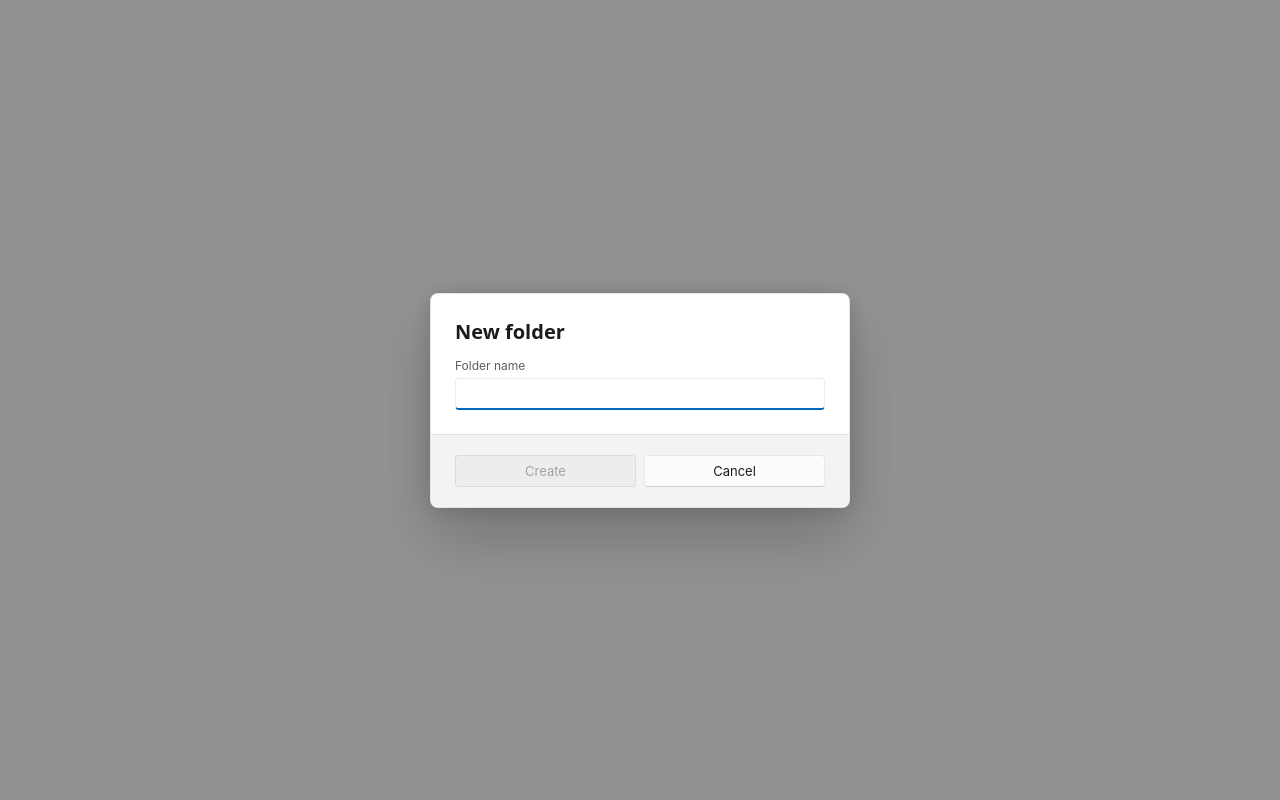
Scenario: ActionDialog › shows the backend error and keeps the dialog open
The width and height of the screenshot is (1280, 800).
Type "Reports" into the field labelled "Folder name" at (640, 394), box [455,378,825,410]
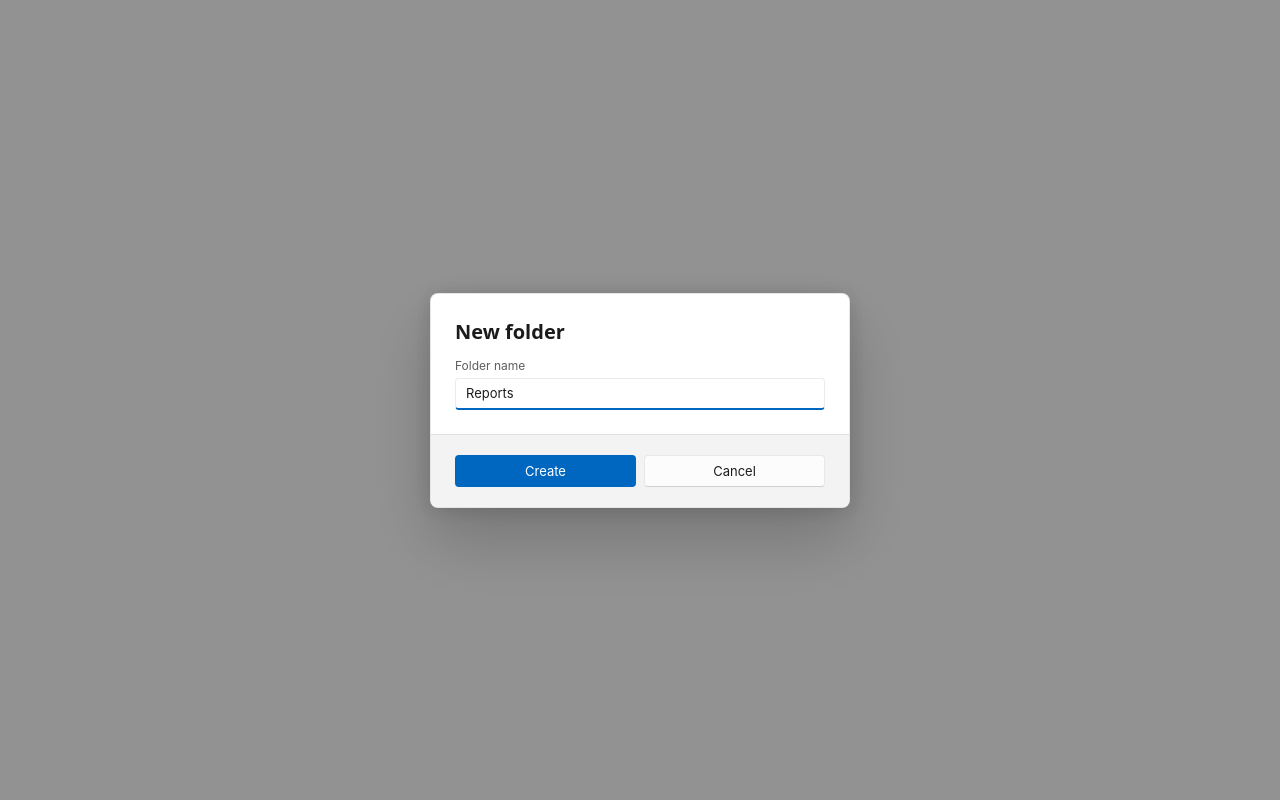
Click the button "Create" at (546, 470), box [455,454,636,486]
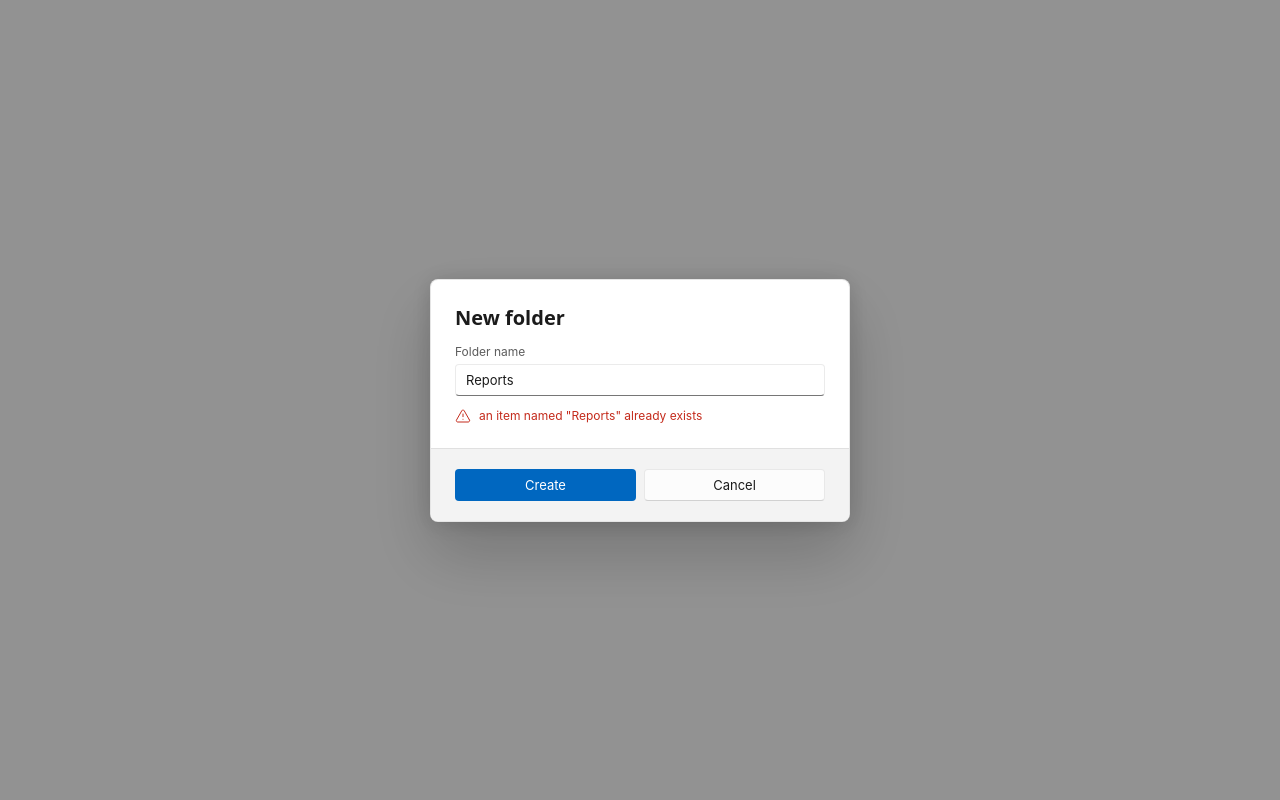
Expected: the text "an item named \"Reports\" already exists" is shown, [455,408,702,424]
